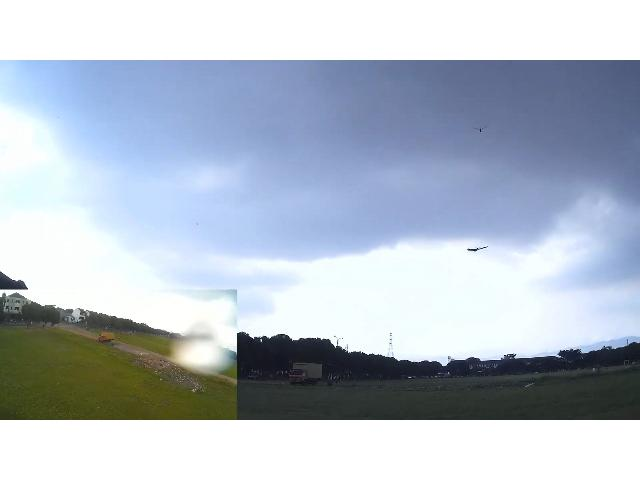Anti-Drone: (468, 246, 488, 252)
